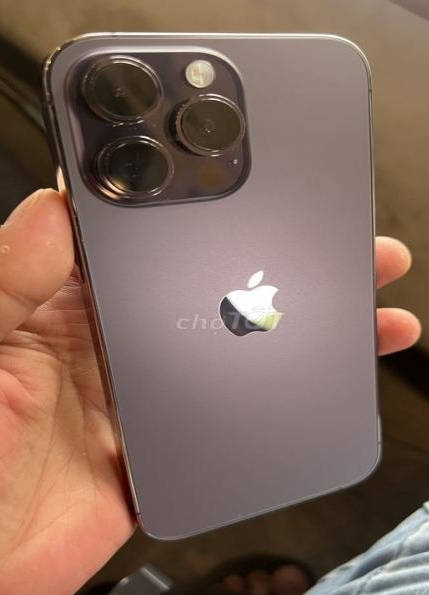scratch: (101, 96, 194, 148)
